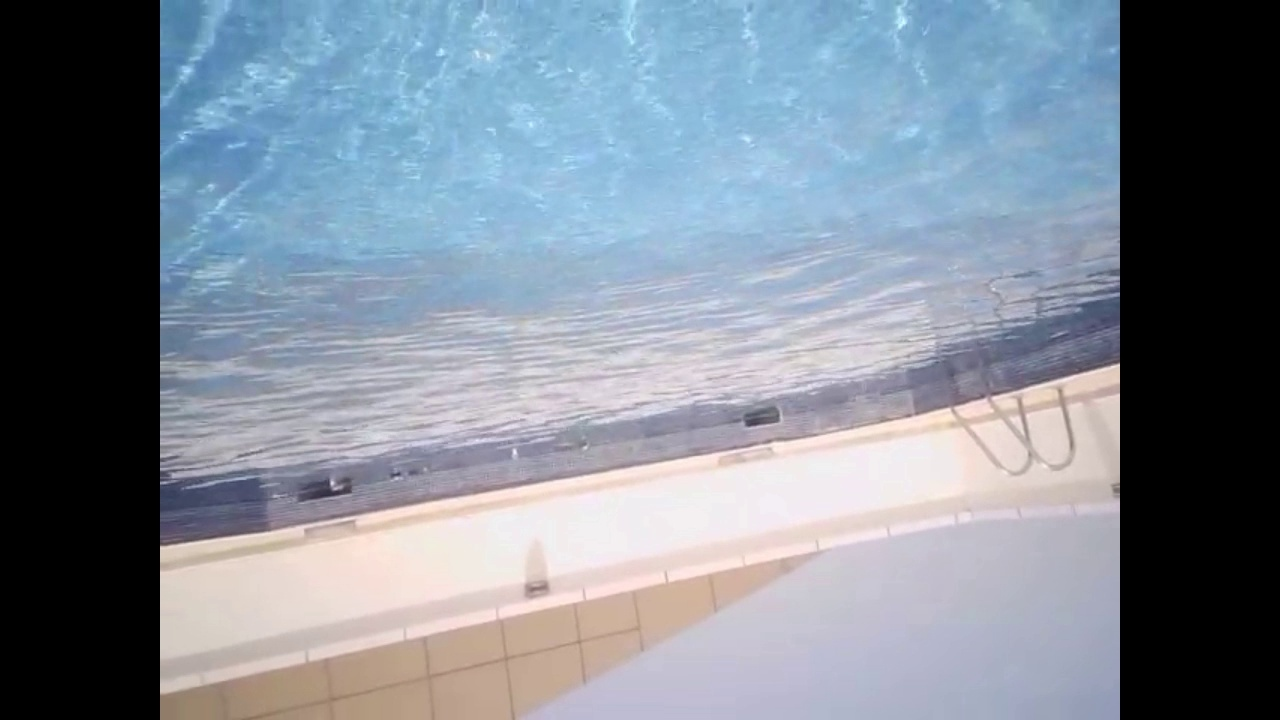debris: (405, 461, 430, 478), (326, 479, 350, 492), (385, 467, 404, 483), (576, 440, 591, 453)
